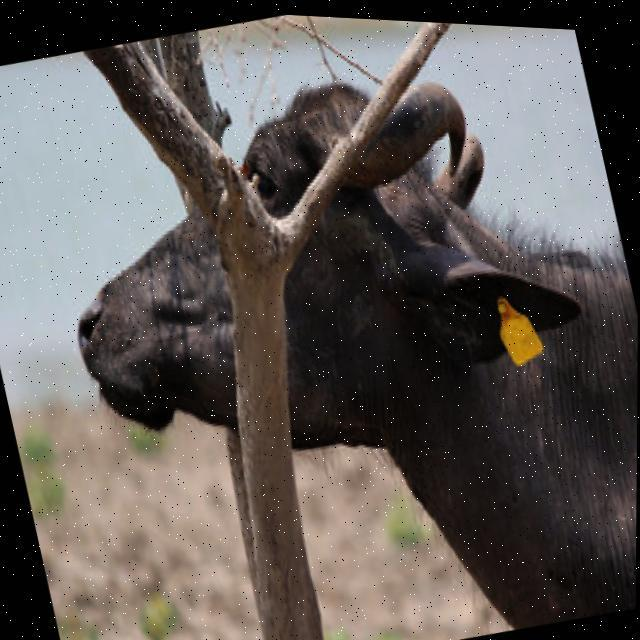Buffalo: (23, 2, 640, 640)
